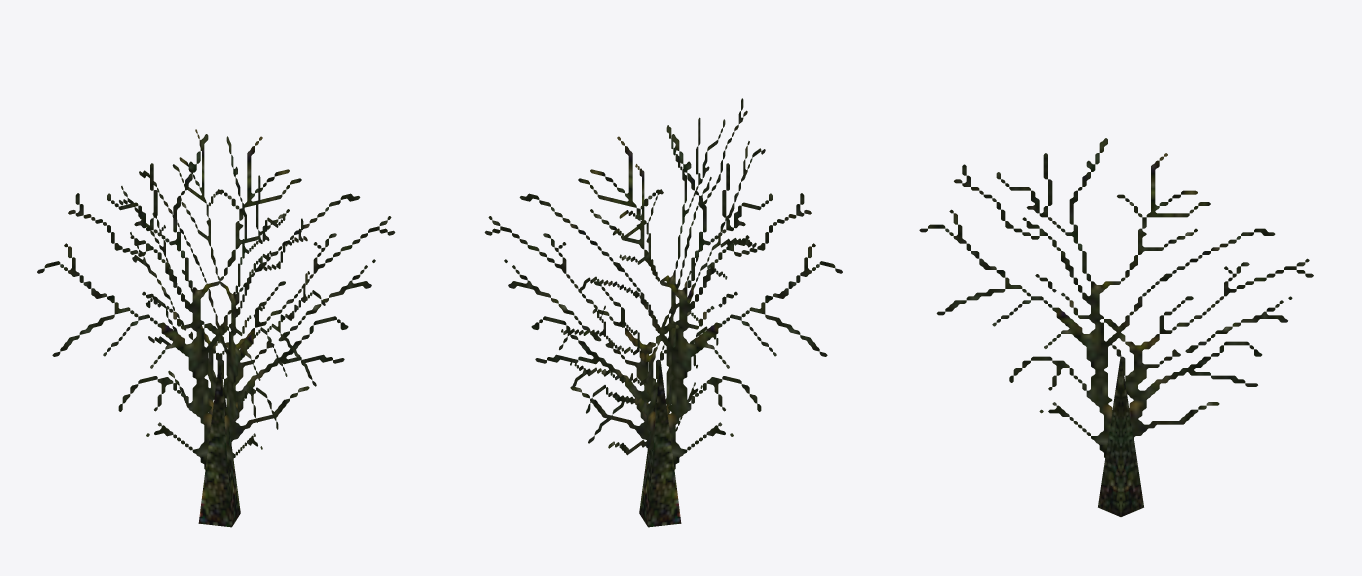
The model's file is maple3dead.glb.
The picture shows the model from 3 angles, left to right: view 1: azimuth 30°, elevation 25°; view 2: azimuth 150°, elevation 25°; view 3: azimuth 270°, elevation 25°; orthographic projection. The views are drawn at different scales.
Parts seen in each view (by area): view 1: Plane02; view 2: Plane02; view 3: Plane02.
Part boxes in pixels (x1,y1,x2,y2): Plane02: [37, 129, 395, 527]; Plane02: [484, 98, 842, 527]; Plane02: [919, 138, 1313, 516].
Size of the model in its own units: 13.37 by 12.96 by 13.37.
Materials: 1 (1 with a texture image).
